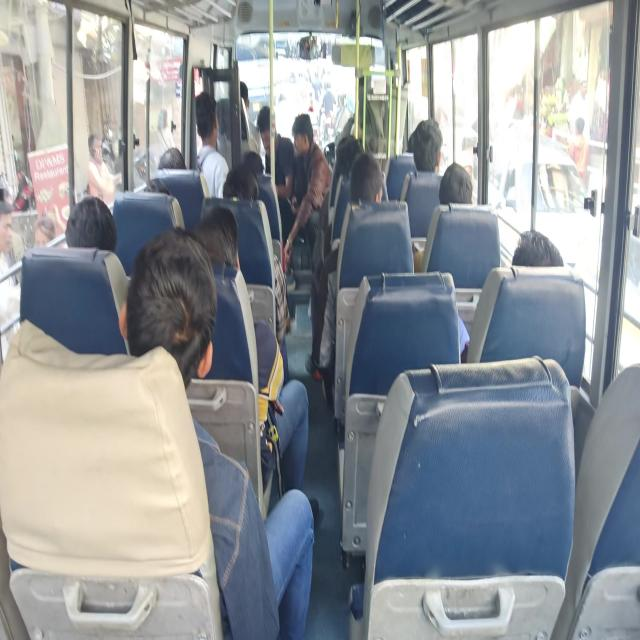person: (119, 228, 315, 638), (194, 206, 310, 497), (306, 152, 385, 380), (459, 229, 564, 362), (222, 164, 291, 346), (283, 112, 332, 273), (412, 162, 472, 272), (0, 194, 22, 362), (195, 91, 229, 198), (256, 105, 294, 198), (65, 194, 117, 252), (86, 132, 120, 206), (512, 229, 564, 267), (407, 119, 442, 172), (567, 116, 589, 184), (438, 162, 473, 204), (222, 164, 259, 201), (33, 216, 56, 247), (158, 146, 186, 170)
